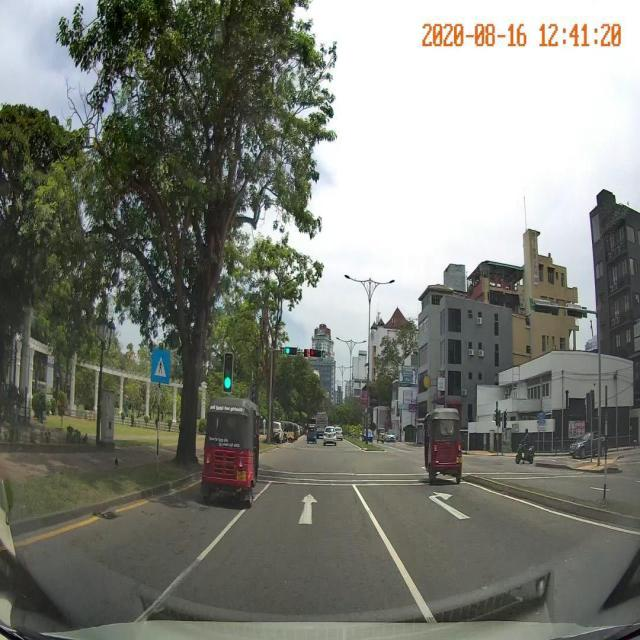Strelka vpered: (298, 493, 318, 525)
Strelka vpravo: (429, 491, 472, 520)
